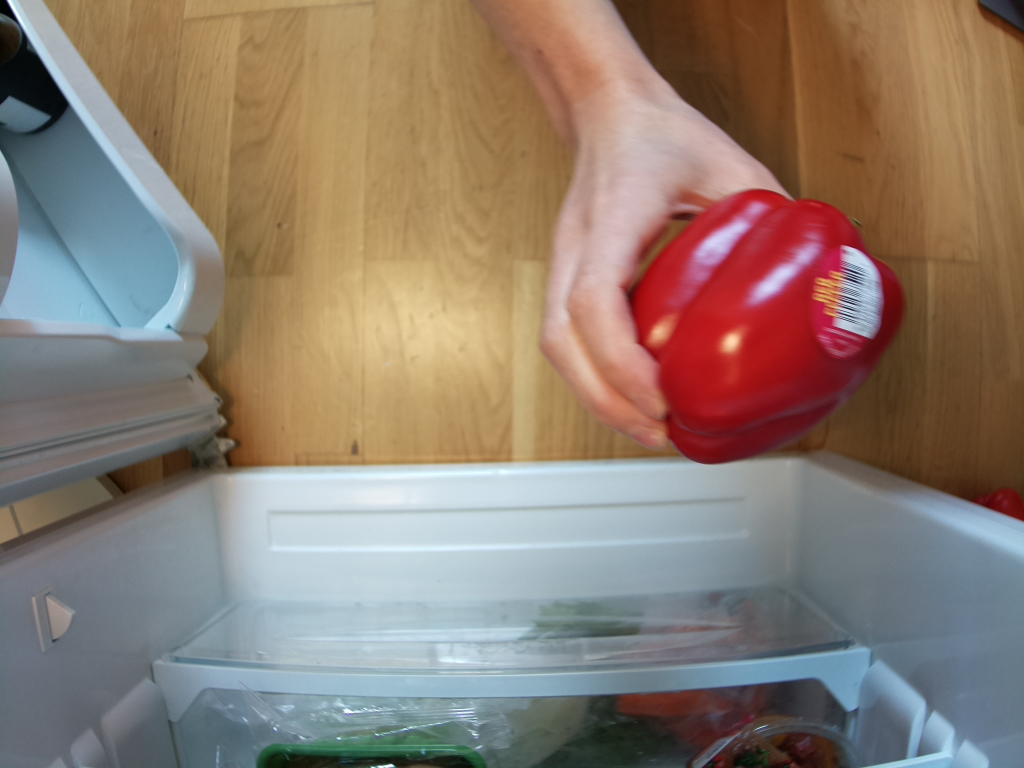pepper: (631, 190, 909, 464)
